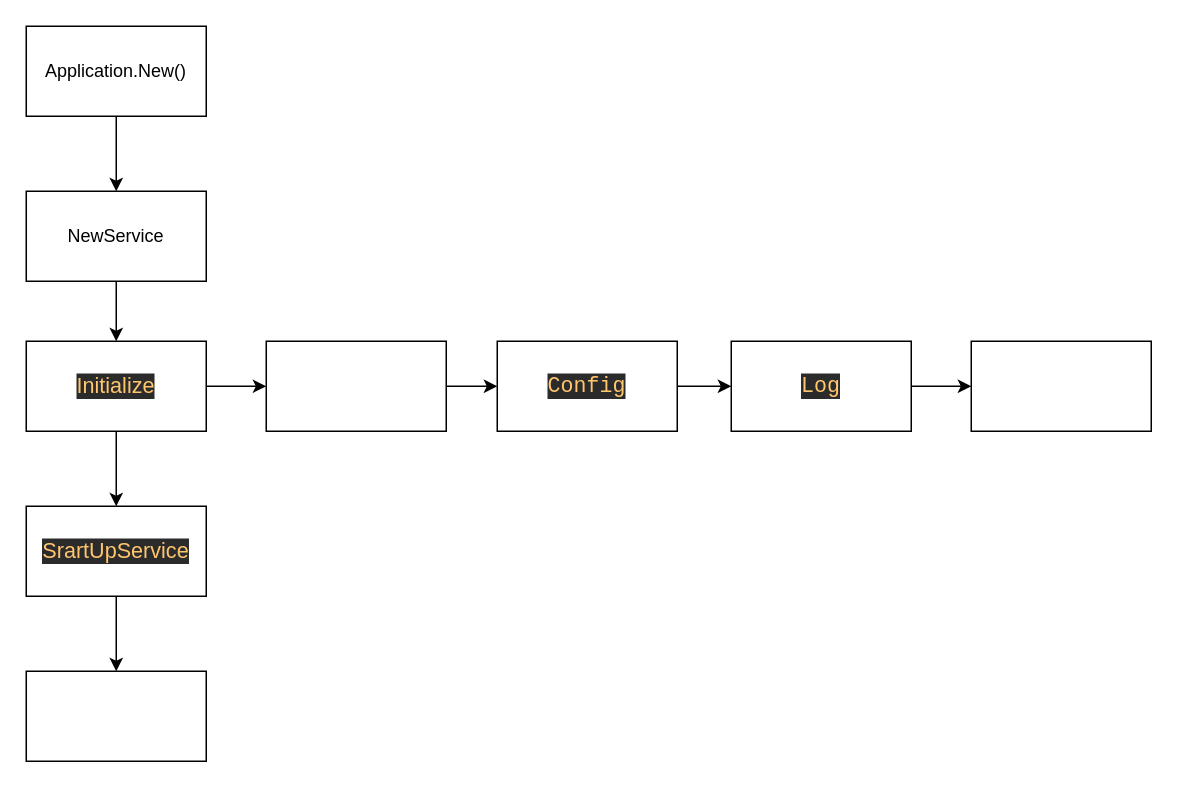
The diagram is 1178 pixels wide and 788 high, and some of its shapes have lost their labels. The shapes that lost their labels are listed below. From the top down, each one's centre as x and y in pixels, then its label:
At point 355,385: "Flag".
At point 1060,385: "ORM".
At point 115,715: "KeepAlive".
